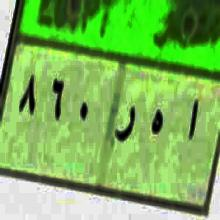0: (76, 95, 94, 137)
6: (50, 76, 67, 122)
8: (14, 64, 46, 122)
alif: (183, 88, 204, 147)
haa: (146, 102, 165, 147)
raa: (114, 94, 138, 157)
